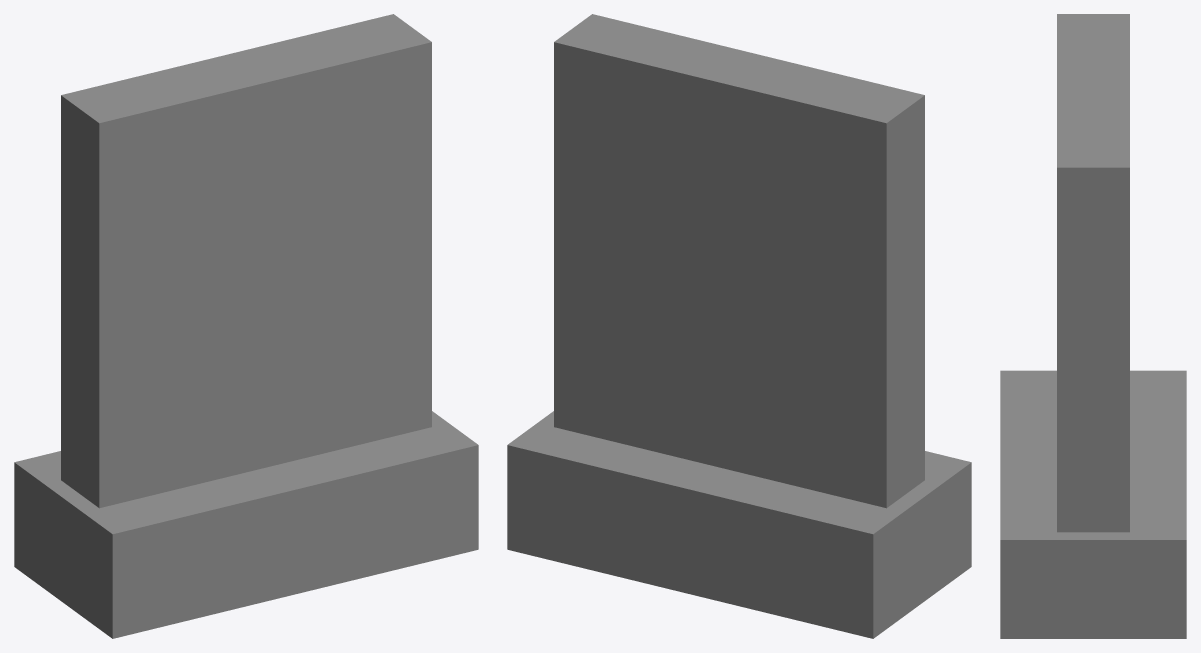
The model's file is headstone_04.fbx.
3 views of the same model, side by side, from view 1: azimuth 30°, elevation 25°; view 2: azimuth 150°, elevation 25°; view 3: azimuth 270°, elevation 25° (orthographic). The views are drawn at different scales.
Parts seen in each view (by area): view 1: headstone_04; view 2: headstone_04; view 3: headstone_04.
Boxes of the visible parts, left/top/right/bottom form: headstone_04: left=14, top=14, right=478, bottom=638; headstone_04: left=507, top=14, right=971, bottom=638; headstone_04: left=1000, top=14, right=1186, bottom=638.
Bounding box in the file's own units: 1.06 × 1.35 × 0.492.
